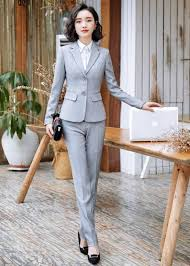asian_female: (64, 3, 105, 43)
